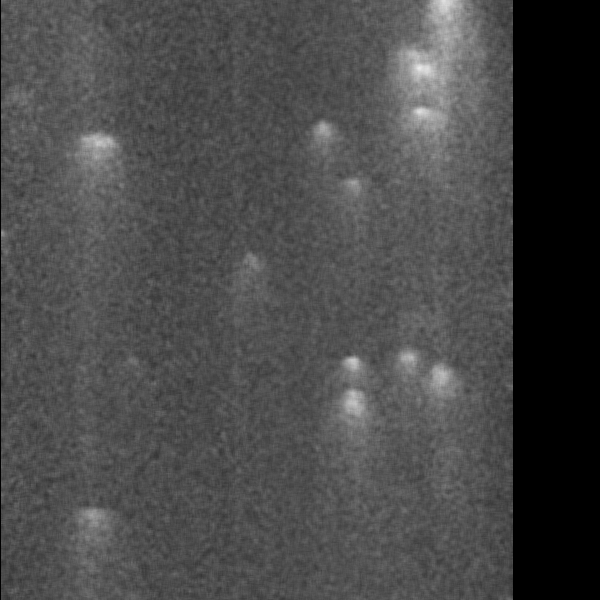spark: (71, 390, 109, 416)
